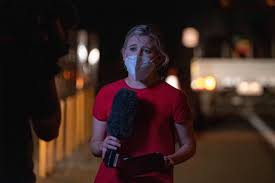mask: (125, 55, 153, 80)
